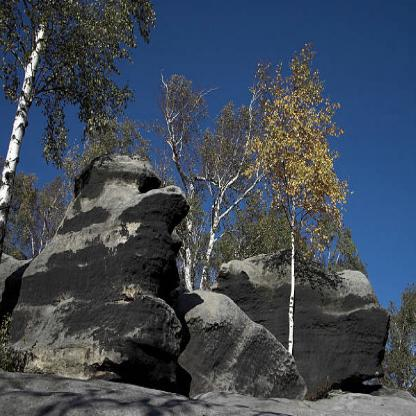Sedimentary_Sandstone: (10, 150, 190, 382), (177, 283, 310, 397)
